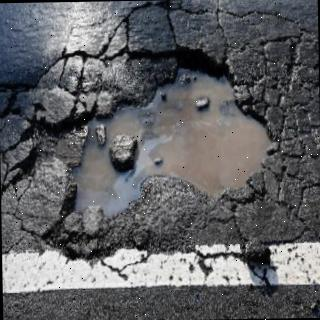pothole: (0, 47, 273, 223)
